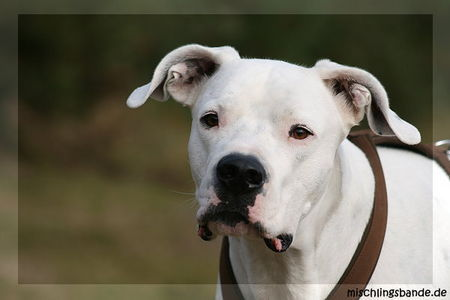dogo_argentino: (125, 43, 450, 300)
